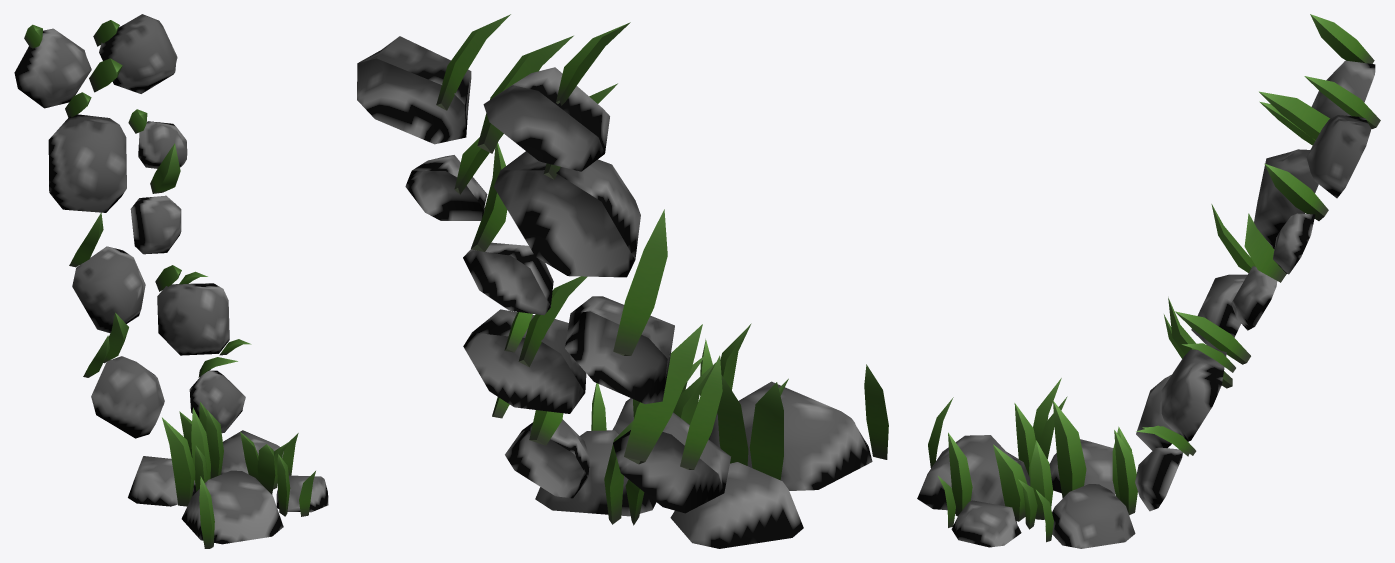
File: deco_rock_wall.FBX
3 renders of one model, left to right at view 1: azimuth 30°, elevation 25°; view 2: azimuth 150°, elevation 25°; view 3: azimuth 270°, elevation 25°, orthographic. The views are drawn at different scales.
Parts seen in each view (by area): view 1: deco_rock_wall; view 2: deco_rock_wall; view 3: deco_rock_wall.
Boxes of the visible parts, bbox=[...] form: deco_rock_wall: bbox=[14, 14, 328, 548]; deco_rock_wall: bbox=[357, 14, 888, 548]; deco_rock_wall: bbox=[917, 14, 1380, 548].
Bounding box in the file's own units: 1.83 × 4.3 × 3.99.
Materials: 1 (1 with a texture image).
